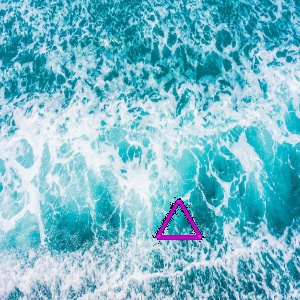triangle: (152, 194, 206, 242)
